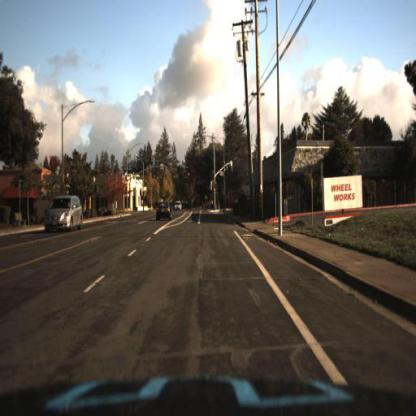car: (42, 193, 84, 237), (155, 198, 173, 222), (173, 198, 185, 214), (174, 202, 184, 213)
trafficLight-Red: (187, 172, 192, 184)
